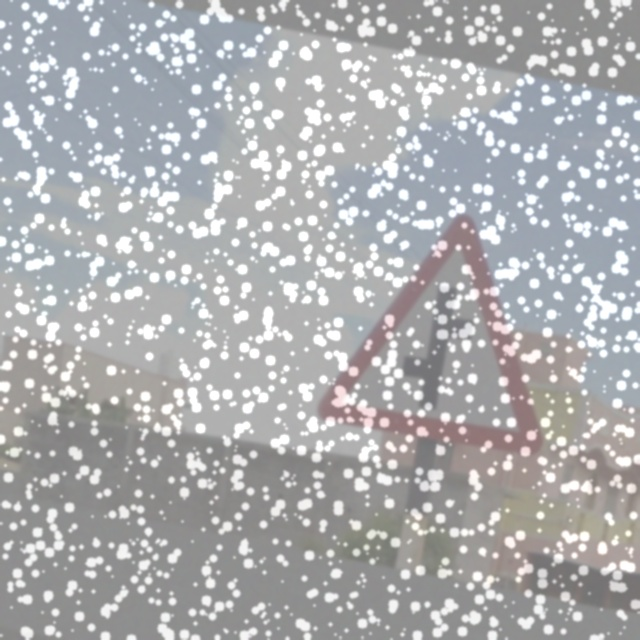Staggered_Intersection: (307, 192, 588, 471)
